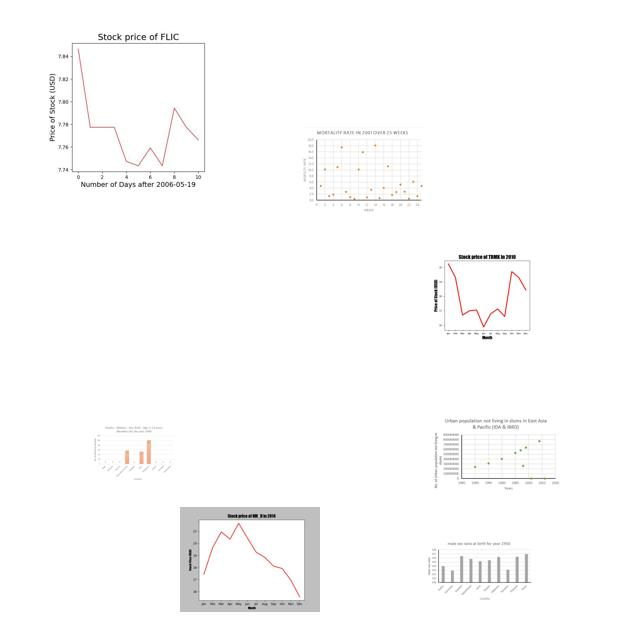Graph: (24, 23, 247, 190), (180, 507, 320, 612), (420, 250, 551, 340), (302, 127, 426, 214), (430, 416, 560, 491), (424, 539, 534, 603), (92, 425, 175, 481)
